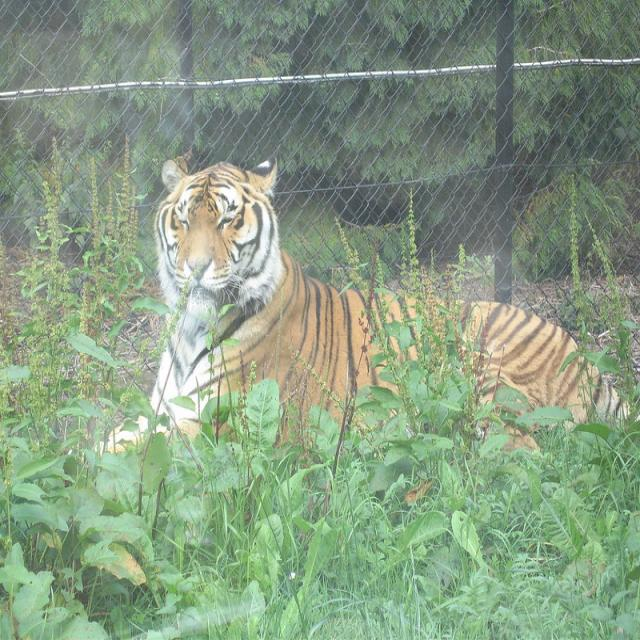Tiger: (64, 152, 632, 470)
